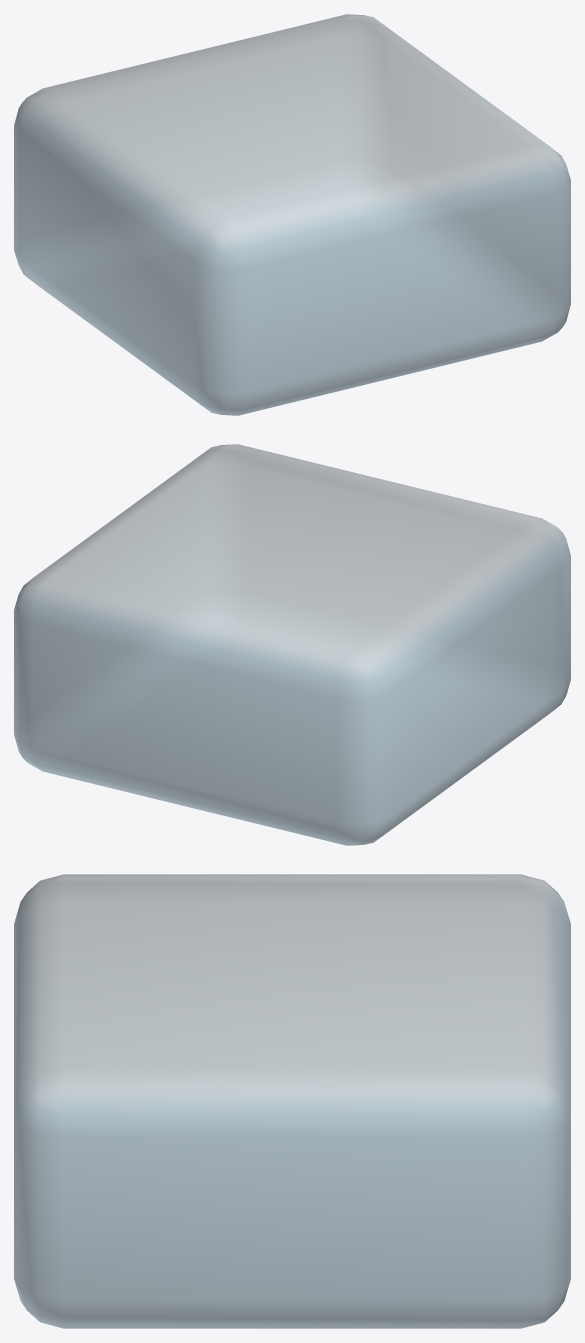
The model's file is eiswuerfel.glb.
The picture shows the model from 3 angles, top to bottom: view 1: azimuth 30°, elevation 25°; view 2: azimuth 150°, elevation 25°; view 3: azimuth 270°, elevation 25°; orthographic projection. The views are drawn at different scales.
Parts seen in each view (by area): view 1: eiswuerfel-glas; view 2: eiswuerfel-glas; view 3: eiswuerfel-glas.
Boxes of the visible parts, x1=… form: eiswuerfel-glas: x1=14, y1=14, x2=570, y2=415; eiswuerfel-glas: x1=14, y1=444, x2=570, y2=845; eiswuerfel-glas: x1=14, y1=874, x2=570, y2=1328.
Size of the model in its own units: 1 by 0.5 by 1.
